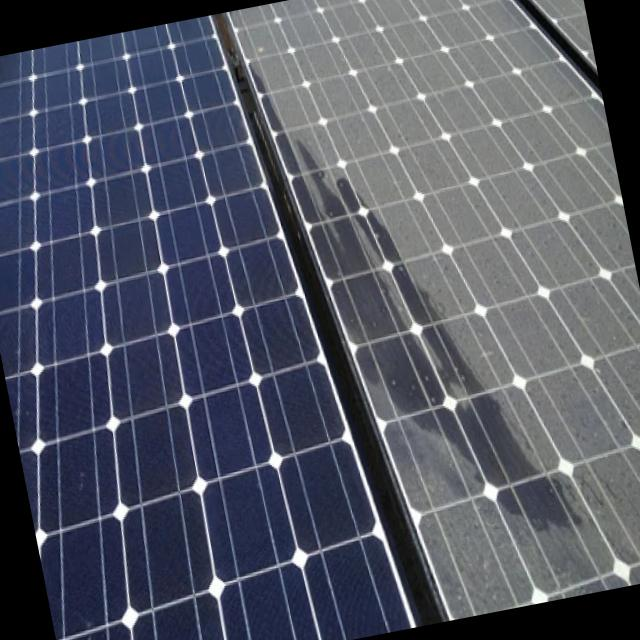faulty: (231, 0, 640, 620)
no faulty: (0, 16, 407, 640)
